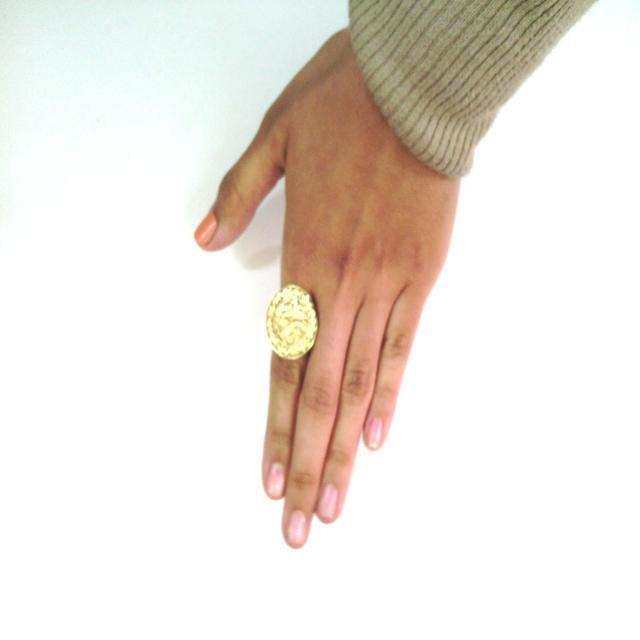Fingernail: (288, 510, 307, 545), (195, 213, 217, 243), (320, 483, 337, 519), (366, 417, 383, 449), (268, 464, 284, 496)
